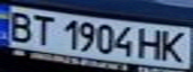0: (93, 21, 118, 55)
1: (57, 17, 81, 51)
4: (115, 24, 139, 57)
9: (75, 19, 96, 53)
B: (3, 8, 39, 43)
H: (136, 26, 166, 61)
K: (157, 28, 190, 63)
T: (27, 12, 60, 46)
